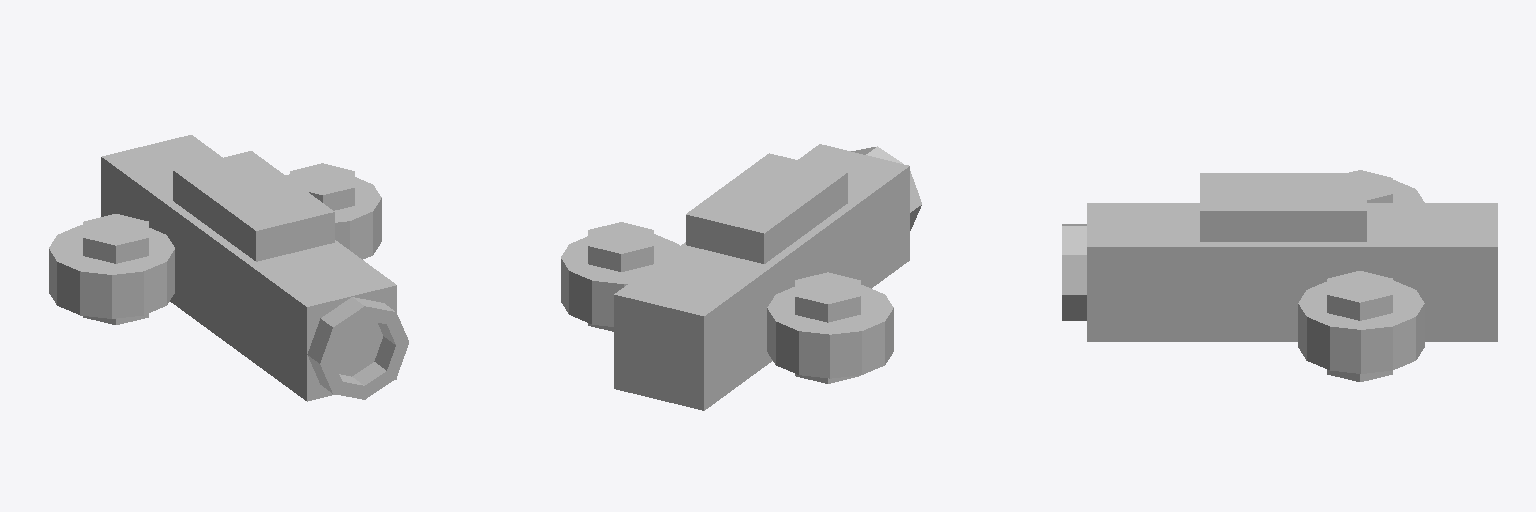
Rendered from Hero_Turret.obj.
The picture shows the model from 3 angles: view 1: azimuth 30°, elevation 25°; view 2: azimuth 150°, elevation 25°; view 3: azimuth 270°, elevation 25°; orthographic projection.
Parts seen in each view (by area): view 1: pCube63; view 2: pCube63; view 3: pCube63.
Part boxes in pixels (left/top/right/bottom): pCube63: left=49, top=135, right=408, bottom=401; pCube63: left=561, top=144, right=921, bottom=410; pCube63: left=1062, top=170, right=1497, bottom=381.
Size of the model in its own units: 3.5 by 1.35 by 4.19.